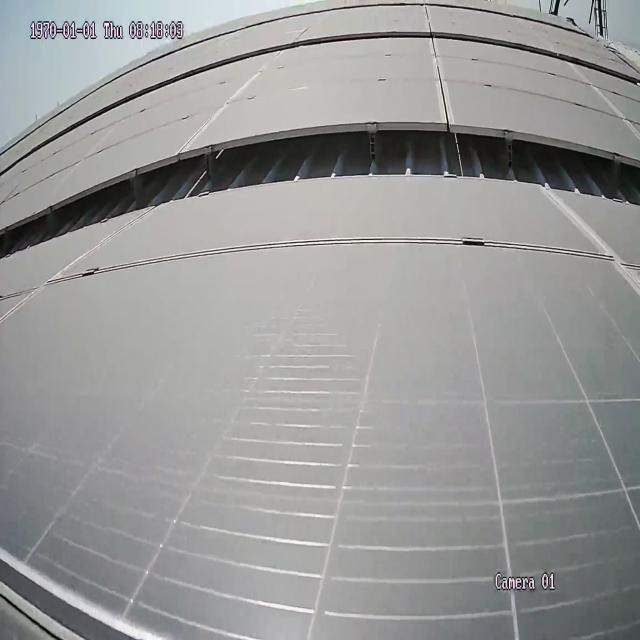interior panel: (45, 233, 587, 286), (1, 548, 156, 640), (551, 204, 639, 289), (429, 42, 461, 117)
outher panel: (1, 123, 636, 256)
